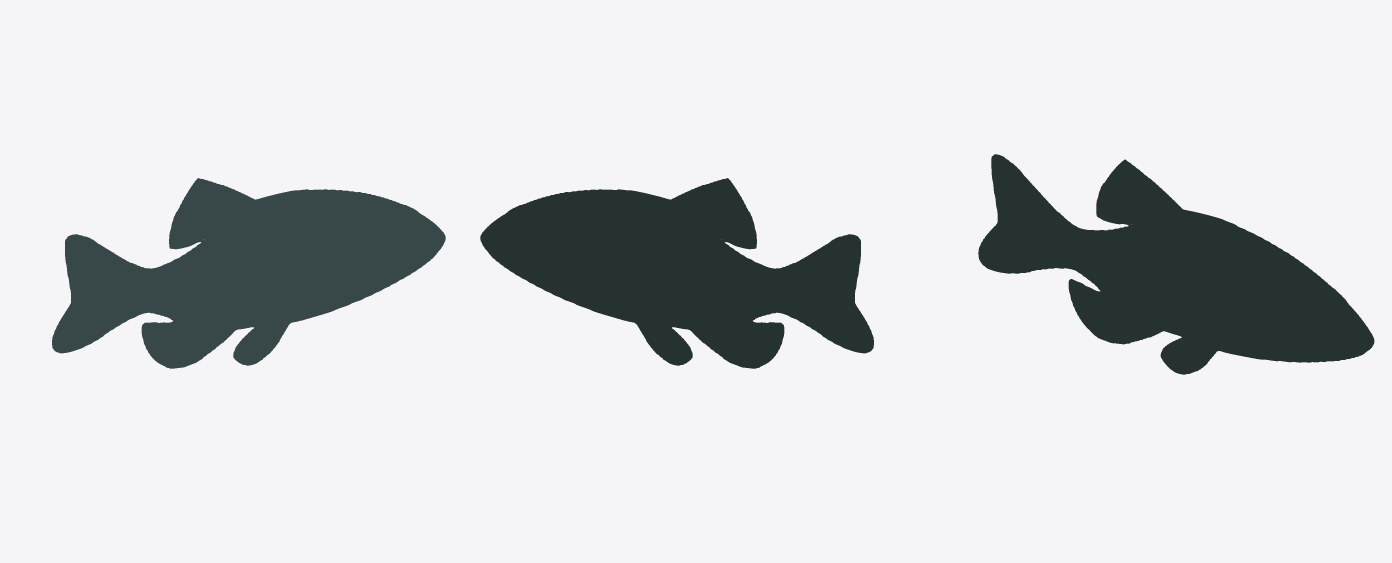
Rendered from fish6.glb.
3 renders of one model, left to right at view 1: azimuth 30°, elevation 25°; view 2: azimuth 150°, elevation 25°; view 3: azimuth 330°, elevation 25°, orthographic.
Visible parts, largest first — view 1: fish.043; view 2: fish.043; view 3: fish.043.
Part boxes in pixels (box(x1,y1,x2,y2)): fish.043: box(52, 178, 445, 368); fish.043: box(480, 178, 873, 368); fish.043: box(978, 154, 1374, 374).
Size of the model in its own units: 0.1722 by 0.1623 by 8.83e-08.
Materials: 1 (1 with a texture image).
